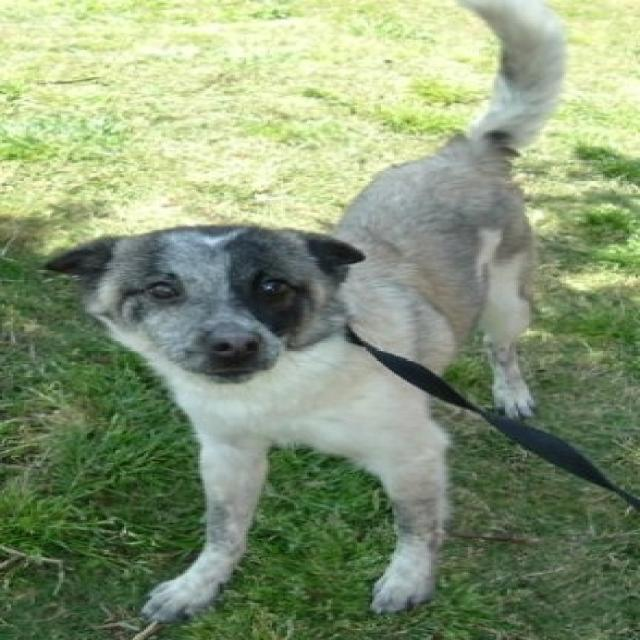Dogs: (39, 0, 570, 624)
